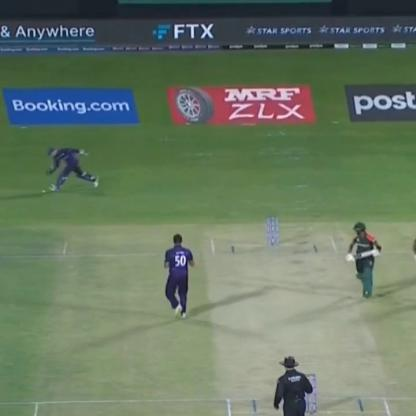ball: (34, 184, 50, 197)
pitch: (192, 226, 409, 416)
